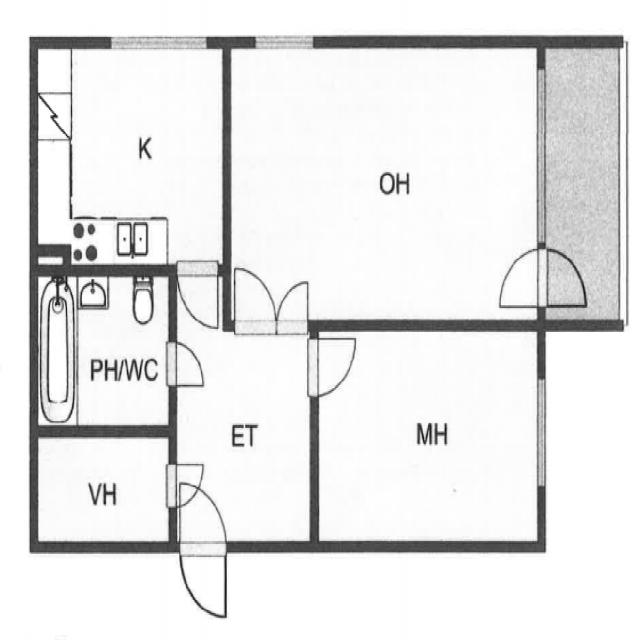door: (238, 46, 527, 322), (176, 484, 233, 622), (228, 258, 288, 339), (490, 240, 548, 314), (175, 257, 227, 332), (308, 328, 360, 399), (538, 242, 590, 312), (270, 269, 317, 337), (163, 335, 211, 396), (164, 461, 208, 514)
window: (30, 262, 174, 432), (530, 59, 554, 249), (104, 28, 211, 62), (530, 370, 551, 493), (248, 27, 320, 58)
zone: (244, 46, 534, 328), (315, 328, 545, 552), (37, 42, 228, 268), (180, 332, 314, 546), (29, 264, 174, 437), (541, 46, 622, 310), (34, 432, 173, 548), (540, 243, 590, 312)
